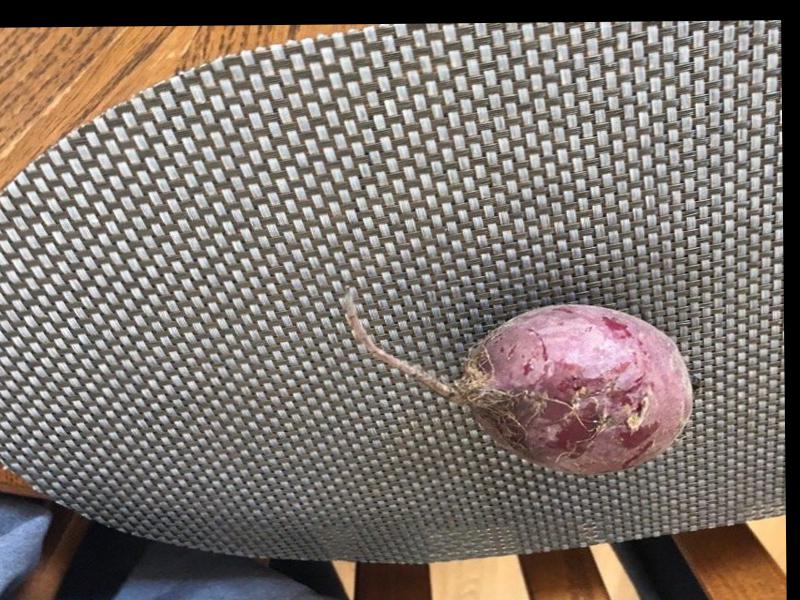Beet: (342, 284, 689, 478)
